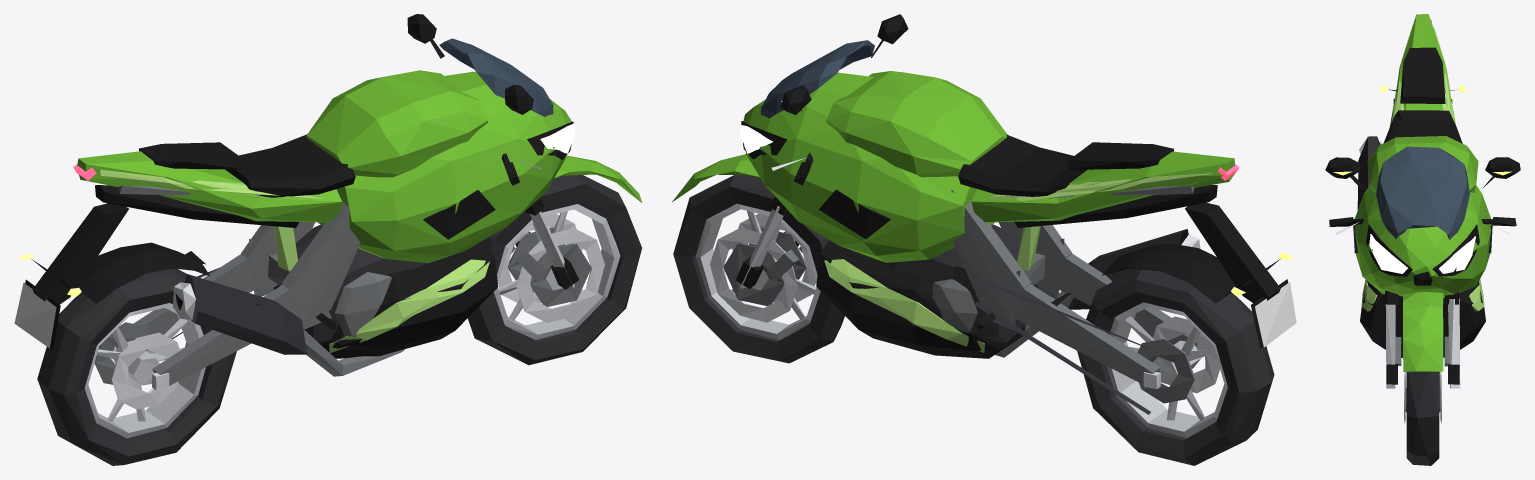
The model's file is kawasaki-zx-6r-636.glb.
The picture shows the model from 3 angles, left to right: view 1: azimuth 30°, elevation 25°; view 2: azimuth 150°, elevation 25°; view 3: azimuth 270°, elevation 25°; orthographic projection. The views are drawn at different scales.
Parts seen in each view (by area): view 1: kawasaki-zx-6r-636; view 2: kawasaki-zx-6r-636; view 3: kawasaki-zx-6r-636.
Boxes of the visible parts, <box> form: kawasaki-zx-6r-636: <box>14,14,642,465</box>; kawasaki-zx-6r-636: <box>672,14,1296,465</box>; kawasaki-zx-6r-636: <box>1325,14,1520,465</box>.
Size of the model in its own units: 2.05 by 1.07 by 0.6978.
